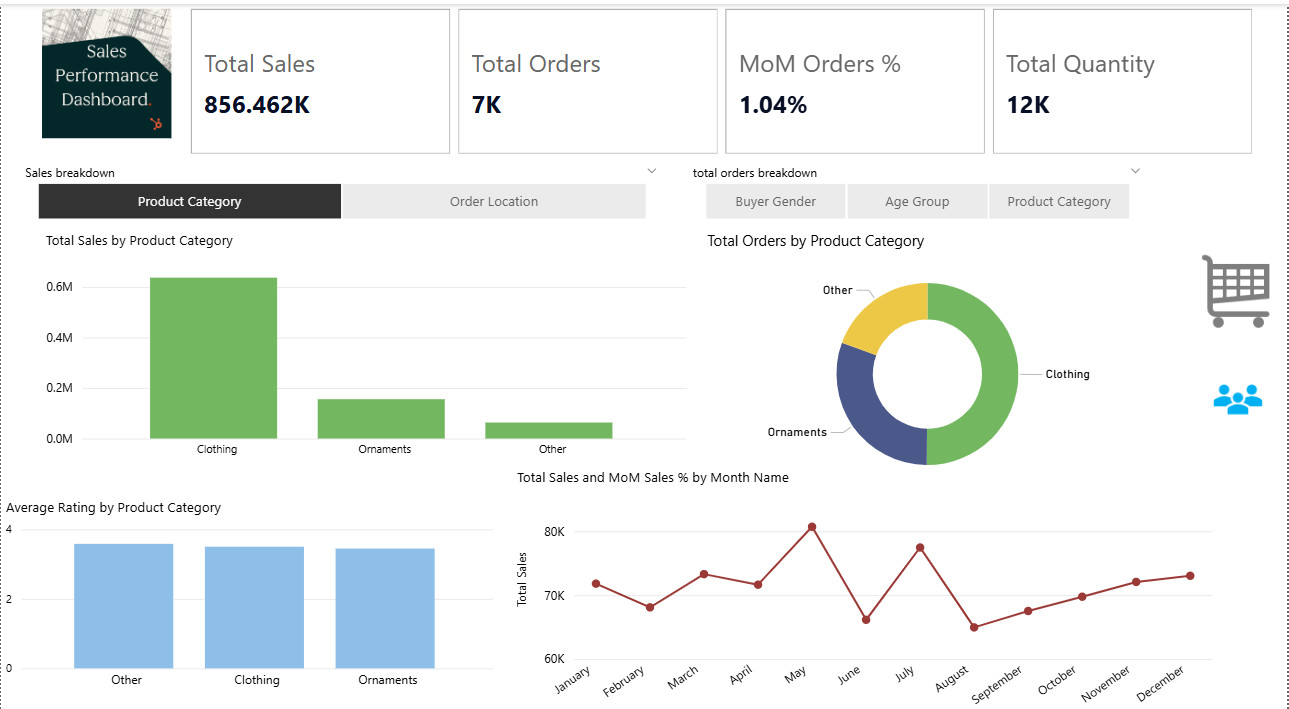

Layout of this report page (visuals, bound fields, positions):
{"tool":"powerbi","page":{"name":"Page 1","canvas":[1280,720],"ordinal":0},"visuals":[{"type":"cardVisual","fields":{"Data":["Fact_Sales.Total Sales","Fact_Sales.Total Quantity","Fact_Sales.International Shipping %","Fact_Sales.MoM Sales %","Fact_Sales.YoY Sales %"]},"box":[172.9,0,1090,138.6],"z":0},{"type":"clusteredColumnChart","fields":{"Category":["Dim_Location.Order Location"],"Y":["Fact_Sales.Total Sales"]},"box":[39.8,225.1,647.6,235.5],"z":1000},{"type":"slicer","fields":{"Values":["Sales breakdown.Sales breakdown"]},"box":[11,154,654,66],"z":2000},{"type":"donutChart","fields":{"Category":["Dim_Customers.Buyer Gender","Dim_Customers.Age Group","Dim_Products.Product Category"],"Y":["Fact_Sales.Total Orders"]},"box":[697.8,225.1,448.5,266.7],"z":3000},{"type":"clusteredColumnChart","fields":{"Y":["Fact_Sales.Average Rating"],"Category":["Dim_Products.Product Category"]},"box":[0,491.4,494.3,200],"z":4000},{"type":"lineChart","fields":{"Y":["Fact_Sales.Total Sales"],"Category":["Dim_Date.Month Name"]},"box":[508.6,461.4,701.4,258.6],"z":5000},{"type":"image","box":[0,0,210,138.6],"z":6000},{"type":"image","box":[1182.9,235.7,97.1,101.4],"z":7000},{"type":"image","box":[1182.9,325.7,97.1,135.7],"z":8000}]}

Visuals, with their boxes in screenshot pixels (x1, y1, x2, y2), scaled from the page's 1280x720 canvas onto the 1289x709 screenshot:
cardVisual - Fact_Sales.Total Sales x Fact_Sales.Total Quantity: bbox=[174, 0, 1272, 136]
clusteredColumnChart - Dim_Location.Order Location x Fact_Sales.Total Sales: bbox=[40, 222, 692, 454]
slicer - Sales breakdown.Sales breakdown: bbox=[11, 152, 670, 217]
donutChart - Dim_Customers.Buyer Gender x Dim_Customers.Age Group: bbox=[703, 222, 1154, 484]
clusteredColumnChart - Fact_Sales.Average Rating x Dim_Products.Product Category: bbox=[0, 484, 498, 681]
lineChart - Fact_Sales.Total Sales x Dim_Date.Month Name: bbox=[512, 454, 1219, 708]
image: bbox=[0, 0, 211, 136]
image: bbox=[1191, 232, 1288, 332]
image: bbox=[1191, 321, 1288, 454]
